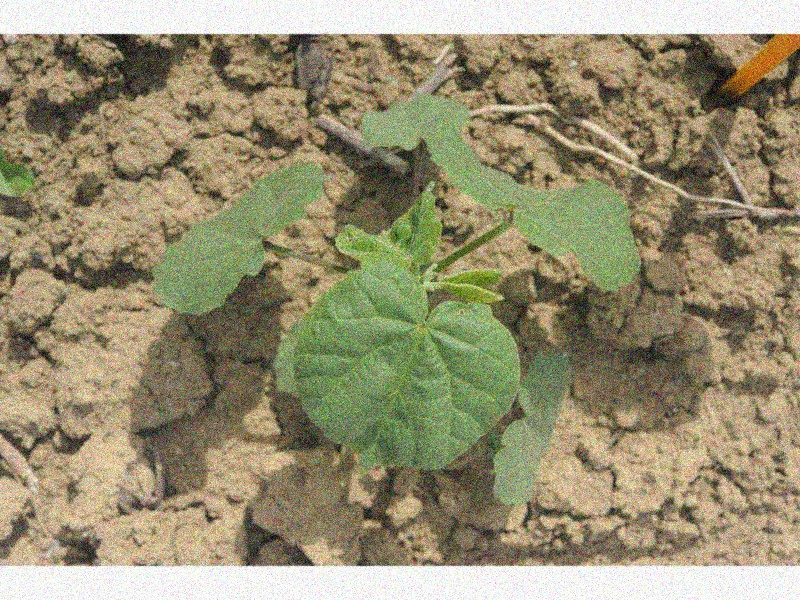velvet: (156, 92, 641, 507)
